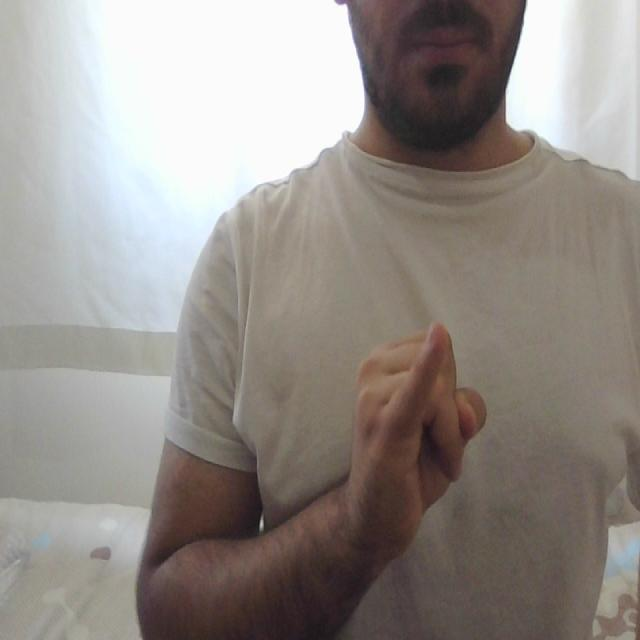kotu: (339, 315, 493, 518)
